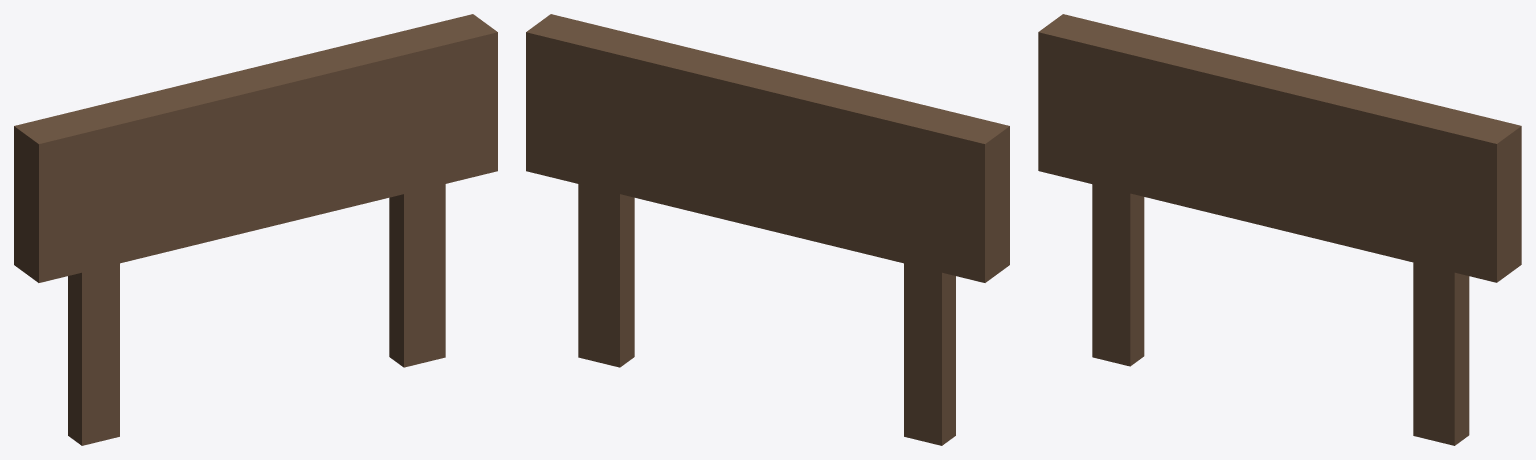
File: Sella 2 + Poggio .fbx
The picture shows the model from 3 angles, left to right: view 1: azimuth 30°, elevation 25°; view 2: azimuth 150°, elevation 25°; view 3: azimuth 330°, elevation 25°; orthographic projection.
Parts seen in each view (by area): view 1: Trave.004; view 2: Trave.004; view 3: Trave.004.
Boxes of the visible parts, x1,y1,x2,y2 form: Trave.004: (14,14,497,445); Trave.004: (526,14,1009,445); Trave.004: (1038,14,1521,445).
Size of the model in its own units: 269 by 178 by 25.27.
